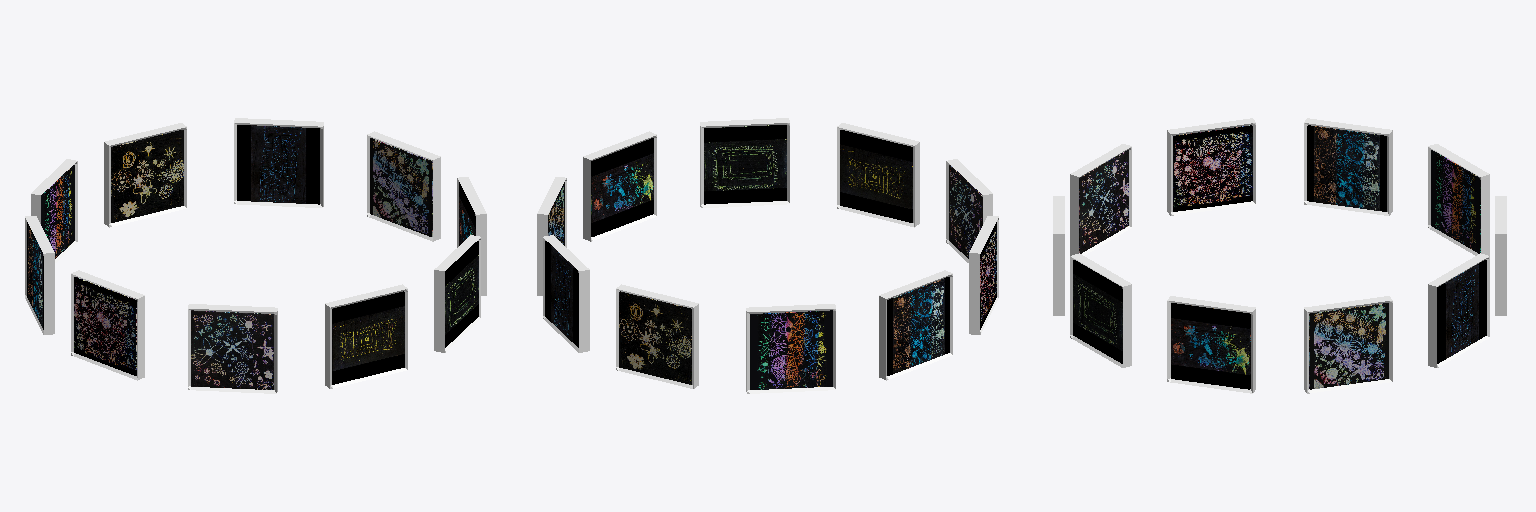
3 renders of one model, left to right at view 1: azimuth 30°, elevation 25°; view 2: azimuth 150°, elevation 25°; view 3: azimuth 270°, elevation 25°, orthographic.
Parts seen in each view (by area): view 1: Cube_16, Cube_11, Cube_15, Cube_10, Cube_17, Cube_12, Cube_14, Cube_19, Cube_2, Cube_7, Cube_4, Cube (+8 smaller); view 2: Cube_19, Cube_14, Cube_10, Cube_15, Cube_13, Cube_18, Cube_11, Cube_16, Cube_3, Cube_8, Cube_1, Cube_5 (+8 smaller); view 3: Cube_12, Cube_13, Cube_17, Cube_18, Cube_11, Cube_16, Cube_14, Cube_19, Cube_4, Cube_1, Cube_9, Cube_6 (+6 smaller).
Part boxes in pixels (x1,y1,x2,y2): Cube_16: (191,310,273,389); Cube_11: (237,125,319,204); Cube_15: (332,291,404,384); Cube_10: (111,130,183,222); Cube_17: (74,277,136,375); Cube_12: (370,138,432,236); Cube_14: (445,241,478,347); Cube_19: (41,165,74,258); Cube_2: (367,131,440,241); Cube_7: (71,270,144,380); Cube_4: (434,235,480,352); Cube: (104,123,186,227); Cube_19: (750,310,832,389); Cube_14: (704,125,786,204); Cube_10: (619,291,691,384); Cube_15: (840,130,912,222); Cube_13: (591,138,653,236); Cube_18: (887,277,949,375); Cube_11: (545,241,578,347); Cube_16: (949,165,982,258); Cube_3: (583,131,656,241); Cube_8: (879,270,952,380); Cube_1: (543,235,589,352); Cube_5: (837,123,919,227); Cube_12: (1309,303,1388,389); Cube_13: (1171,303,1250,389); Cube_17: (1173,125,1252,211); Cube_18: (1307,125,1386,211); Cube_11: (1437,260,1486,363); Cube_16: (1079,150,1128,253); Cube_14: (1073,260,1122,363); Cube_19: (1431,150,1480,253); Cube_4: (1070,253,1131,367); Cube_1: (1428,253,1489,367); Cube_9: (1428,144,1489,255); Cube_6: (1070,144,1131,255).
Bounding box in the file's own units: 1020 × 200 × 1008.
Materials: 11 (10 with a texture image).